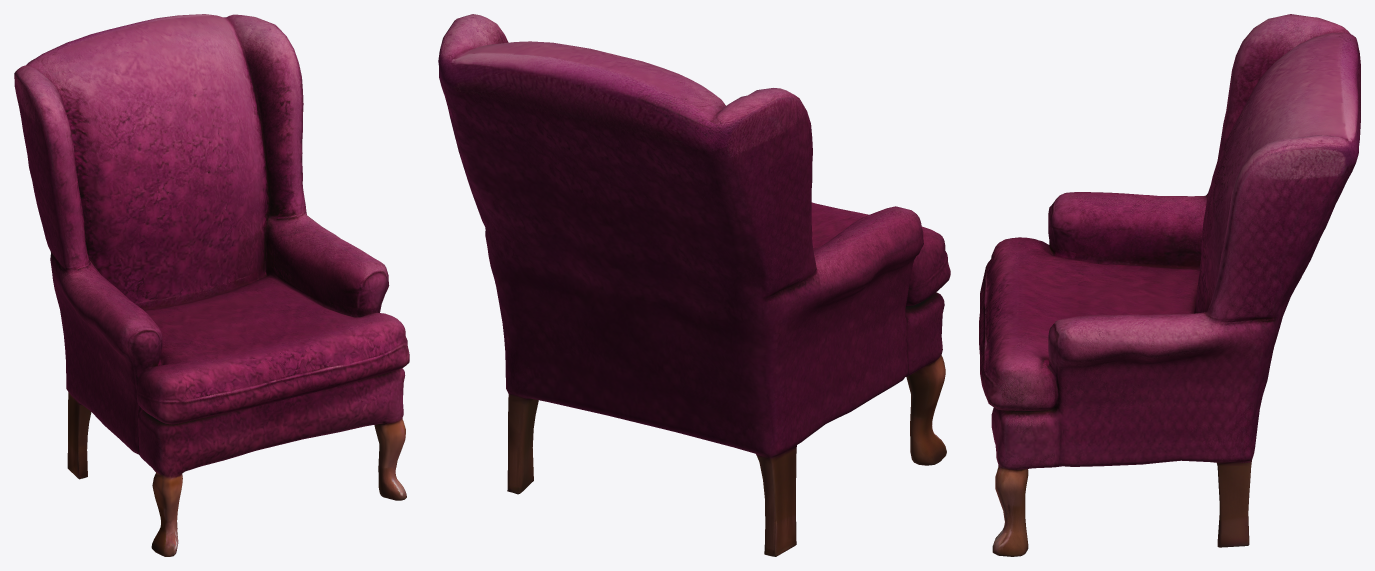
File: Chair_Wing_Burgundy_42InchesTall_0222191113_texture.glb
The picture shows the model from 3 angles, left to right: view 1: azimuth 30°, elevation 25°; view 2: azimuth 150°, elevation 25°; view 3: azimuth 270°, elevation 25°; orthographic projection. The views are drawn at different scales.
Parts seen in each view (by area): view 1: Mesh_0.001; view 2: Mesh_0.001; view 3: Mesh_0.001.
Boxes of the visible parts, <box> form: Mesh_0.001: <box>14,14,409,556</box>; Mesh_0.001: <box>438,14,950,556</box>; Mesh_0.001: <box>979,14,1360,556</box>.
Bounding box in the file's own units: 0.782 × 1.07 × 0.8697.
Materials: 1 (1 with a texture image).
